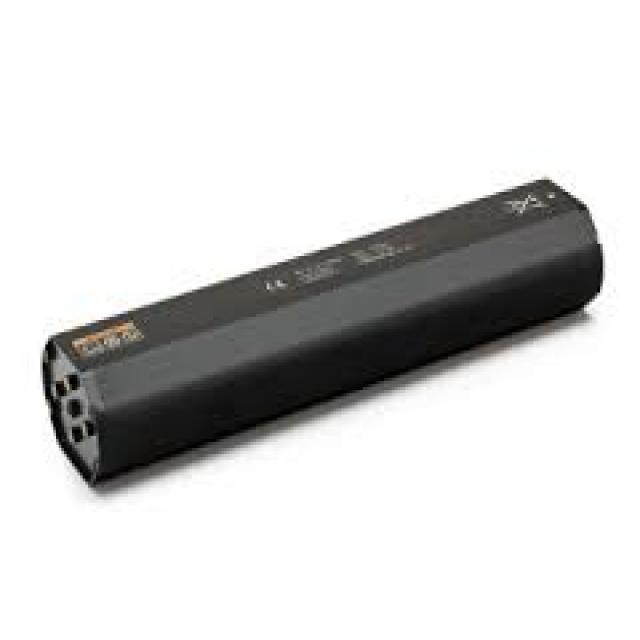battery: (40, 182, 606, 486)
